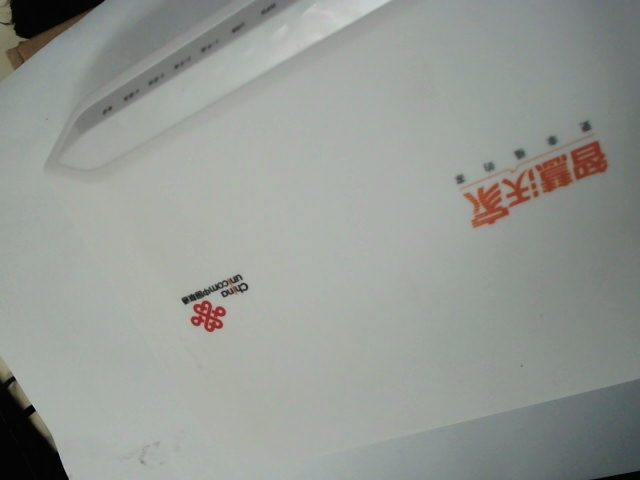AC_ChinaUnicom: (151, 257, 274, 345)
